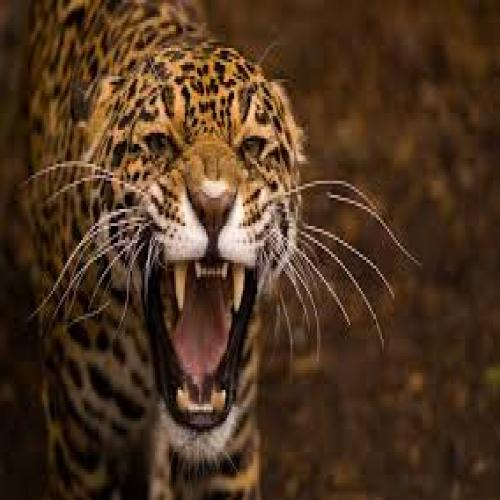jaguar_not-endangered: (26, 0, 302, 494)
